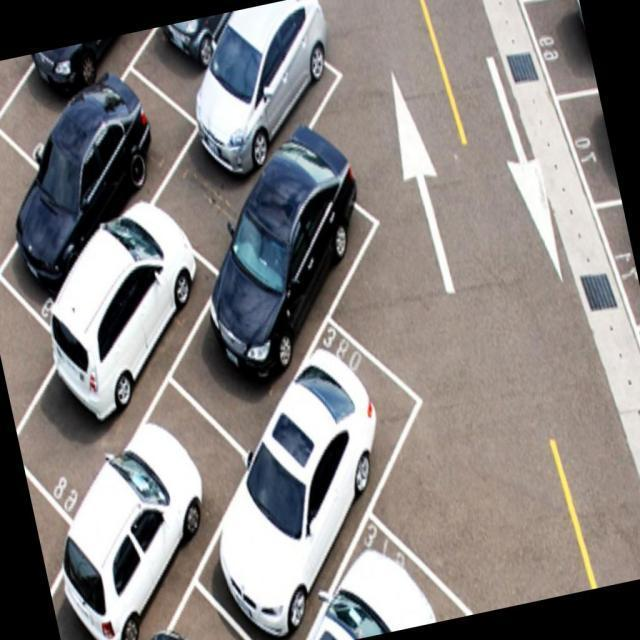car: (194, 314, 418, 614), (143, 13, 384, 273), (29, 420, 245, 638), (0, 237, 207, 453), (0, 73, 191, 273), (286, 503, 458, 639), (0, 30, 161, 139), (143, 8, 266, 112), (532, 0, 598, 97)
